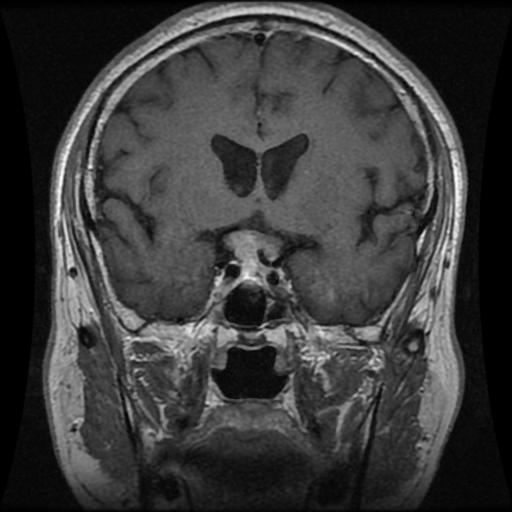Pituirity_tumour: (211, 224, 288, 298)
